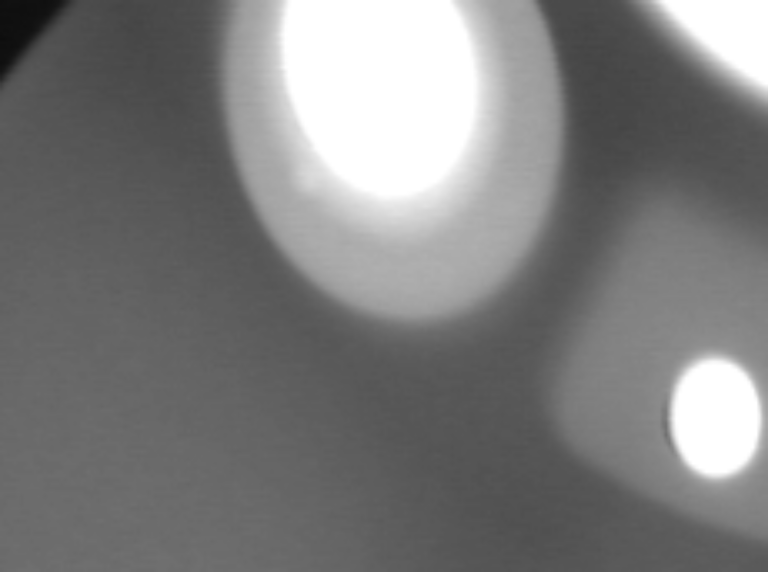defect: (301, 163, 341, 221)
